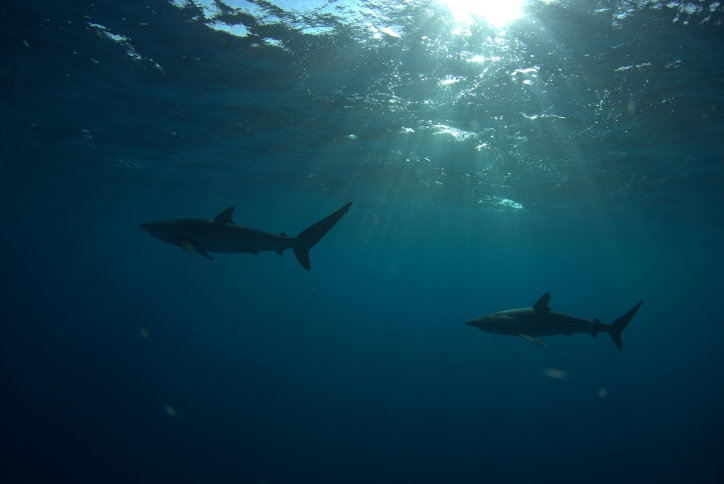Sedoso: (121, 194, 364, 281)
